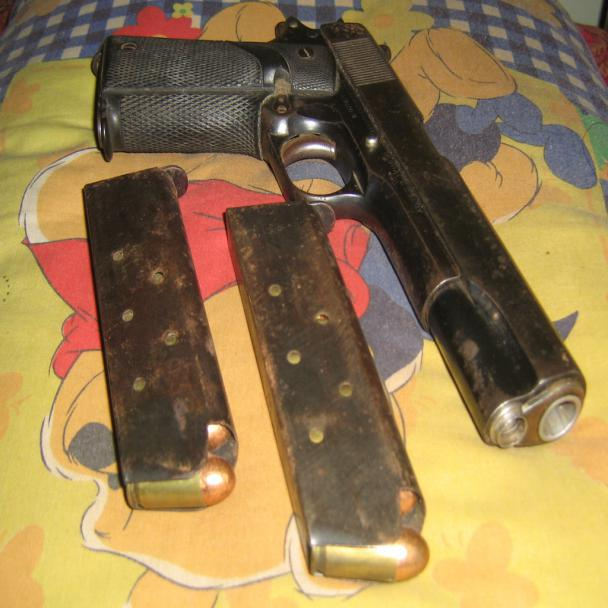Gun: (87, 7, 590, 455)
